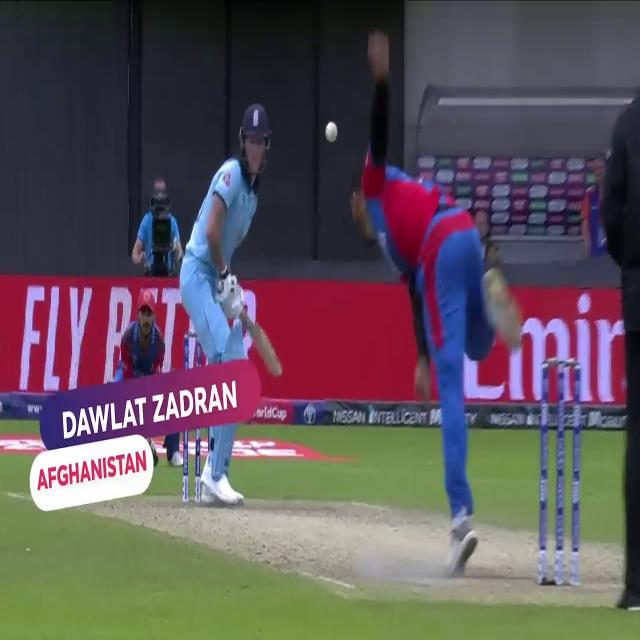ball: (322, 119, 342, 149)
